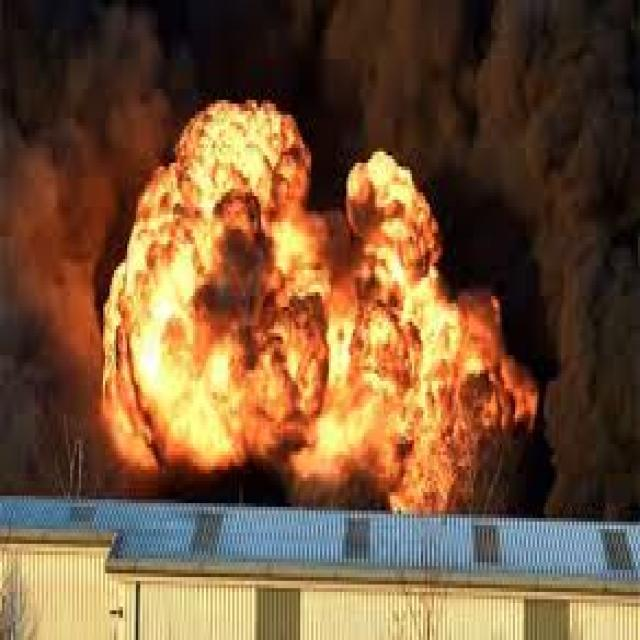Fire: (95, 101, 537, 514)
Smoke: (0, 0, 640, 104), (537, 105, 640, 515), (0, 104, 98, 495)
